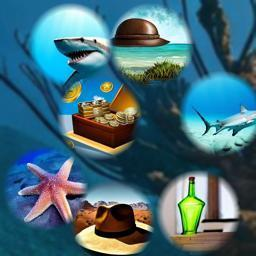not an animal: (112, 16, 189, 84), (85, 201, 151, 253), (172, 175, 222, 241)
treasure: (72, 93, 141, 146)
